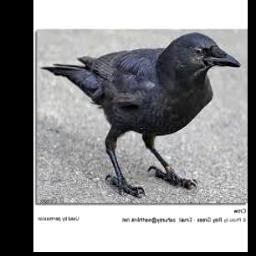Crow: (40, 32, 241, 197)
